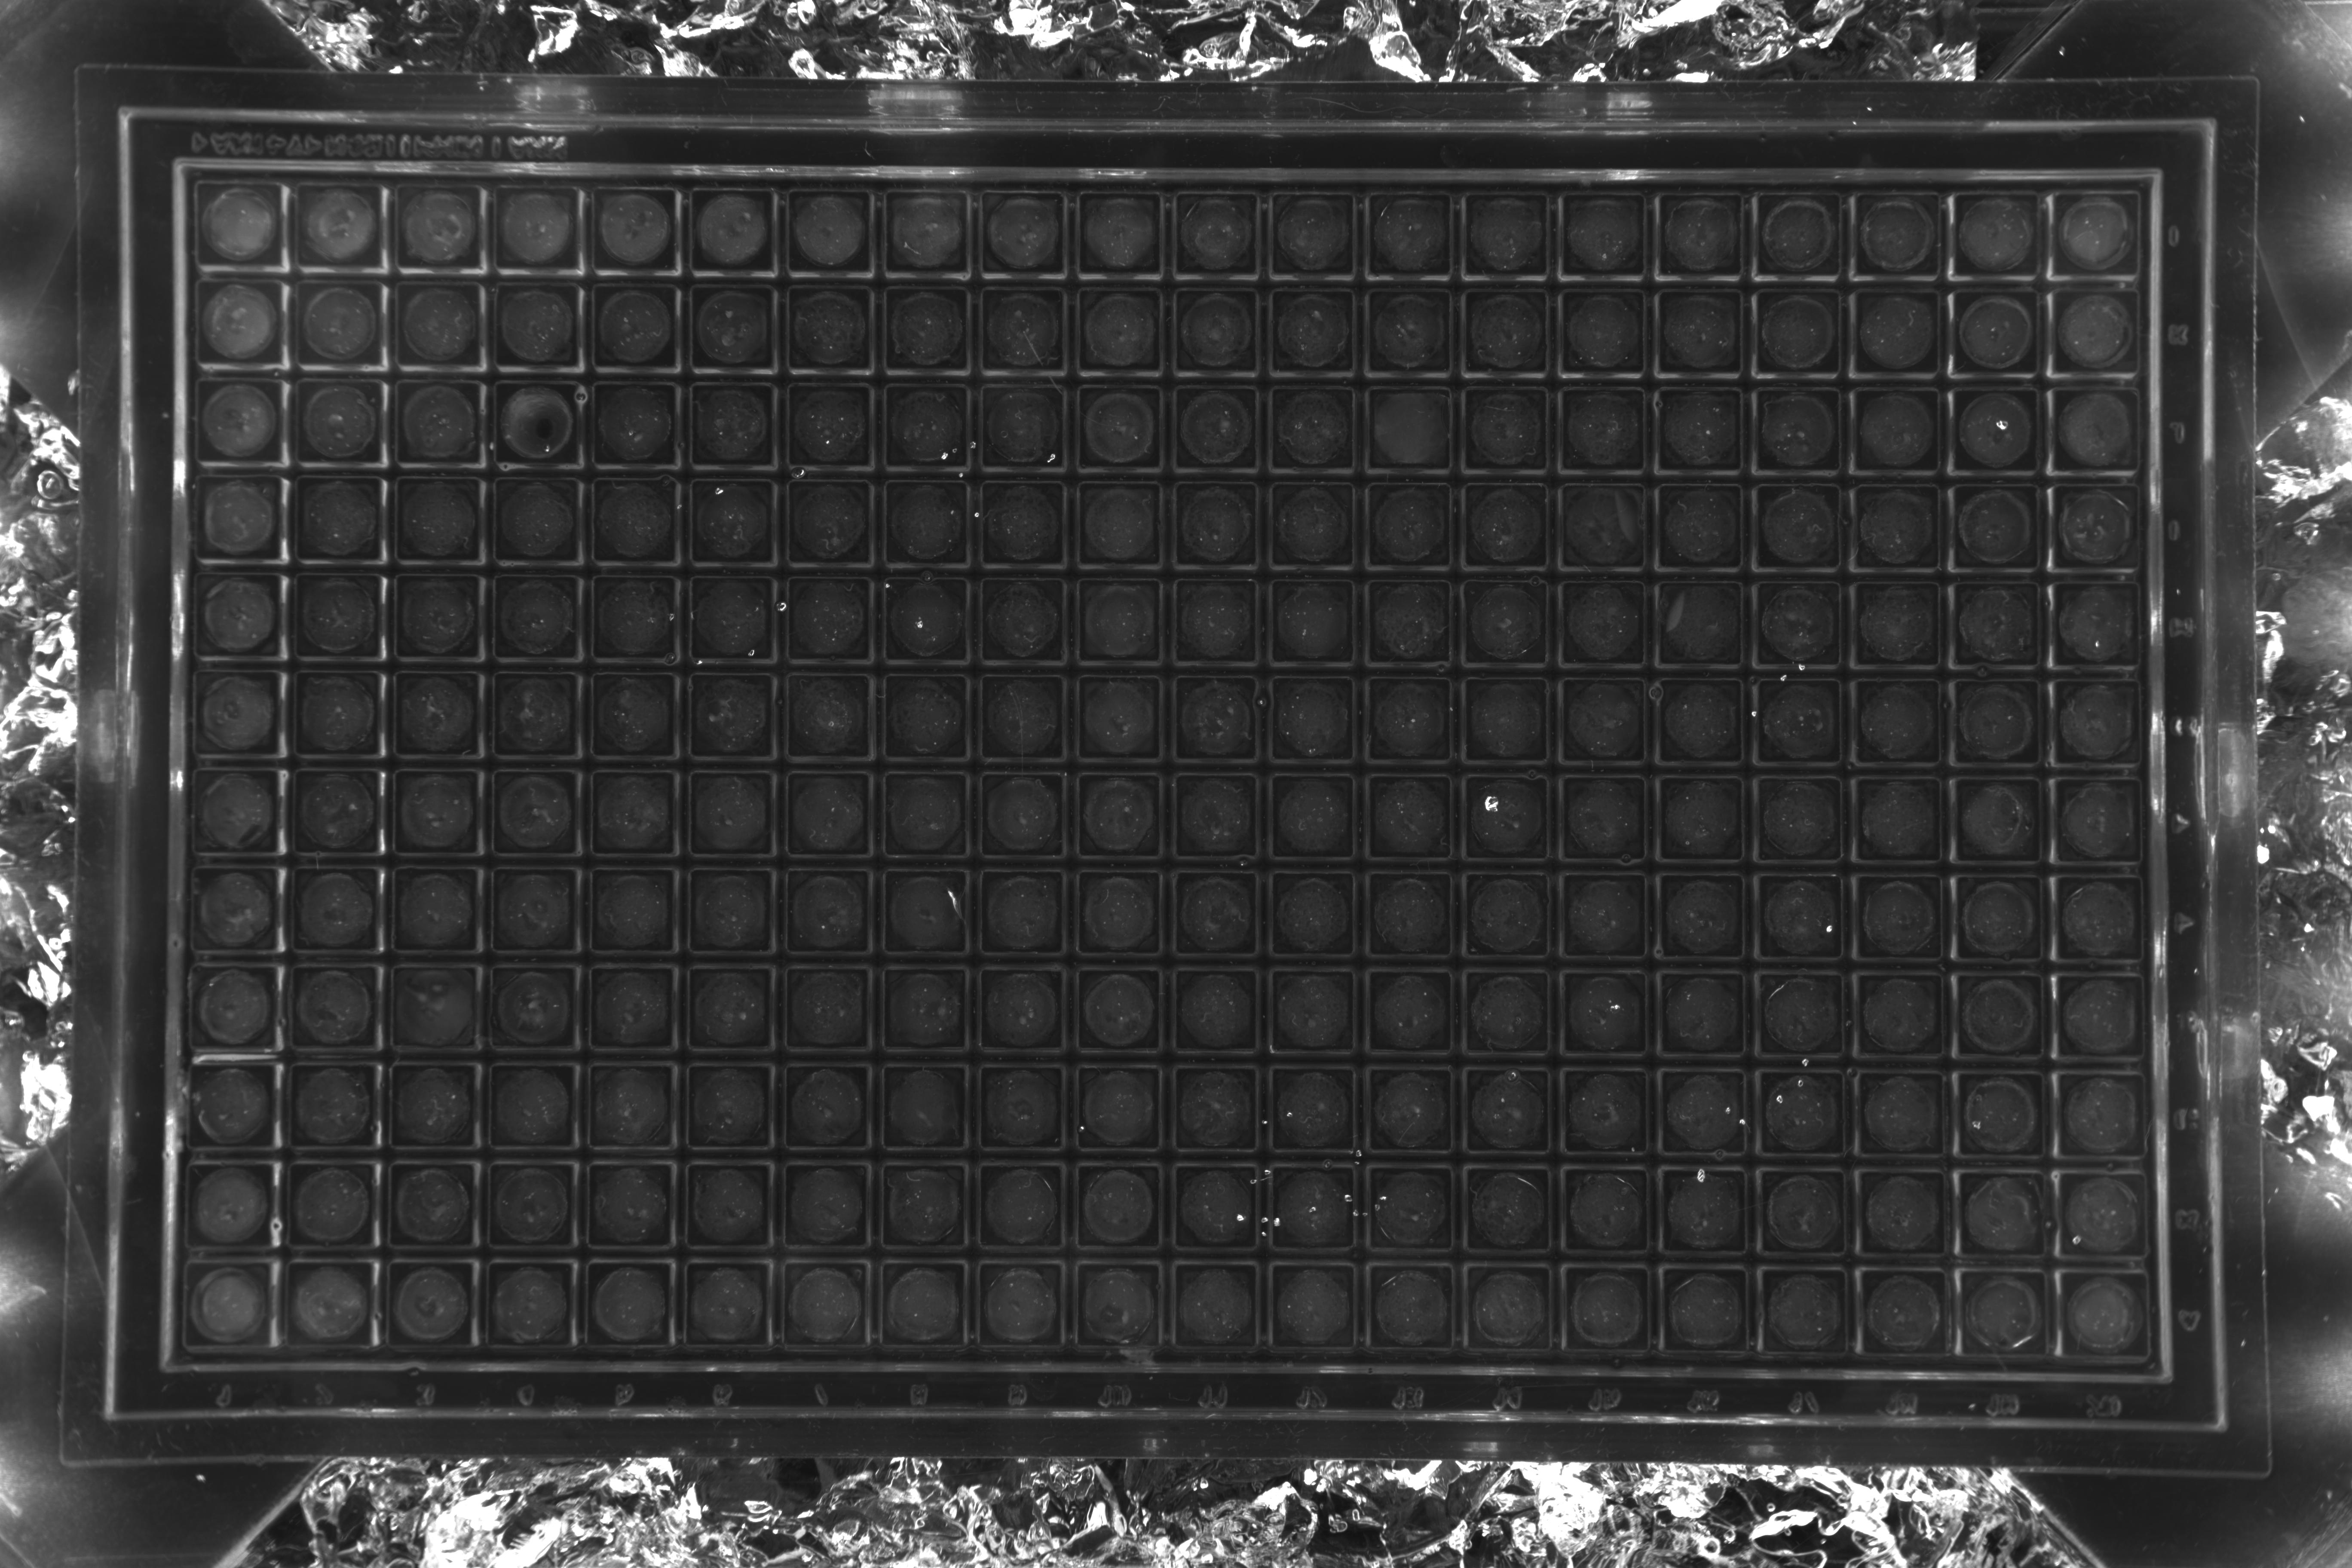WM_well: (201, 845, 290, 933), (203, 651, 292, 738), (297, 945, 387, 1032), (691, 751, 780, 838), (199, 945, 287, 1032), (303, 555, 390, 642), (595, 751, 682, 838), (595, 266, 682, 353), (887, 656, 975, 744), (1078, 1337, 1165, 1424), (1176, 560, 1263, 647), (1176, 656, 1263, 744), (1274, 754, 1361, 842), (1370, 754, 1458, 842), (1370, 948, 1458, 1036), (1466, 560, 1554, 647), (1561, 269, 1648, 357), (1764, 1050, 1851, 1137), (1766, 1248, 1853, 1335), (1766, 1347, 1853, 1435), (1956, 462, 2044, 549), (1963, 1151, 2051, 1239), (2056, 464, 2144, 551), (2056, 560, 2144, 647)
